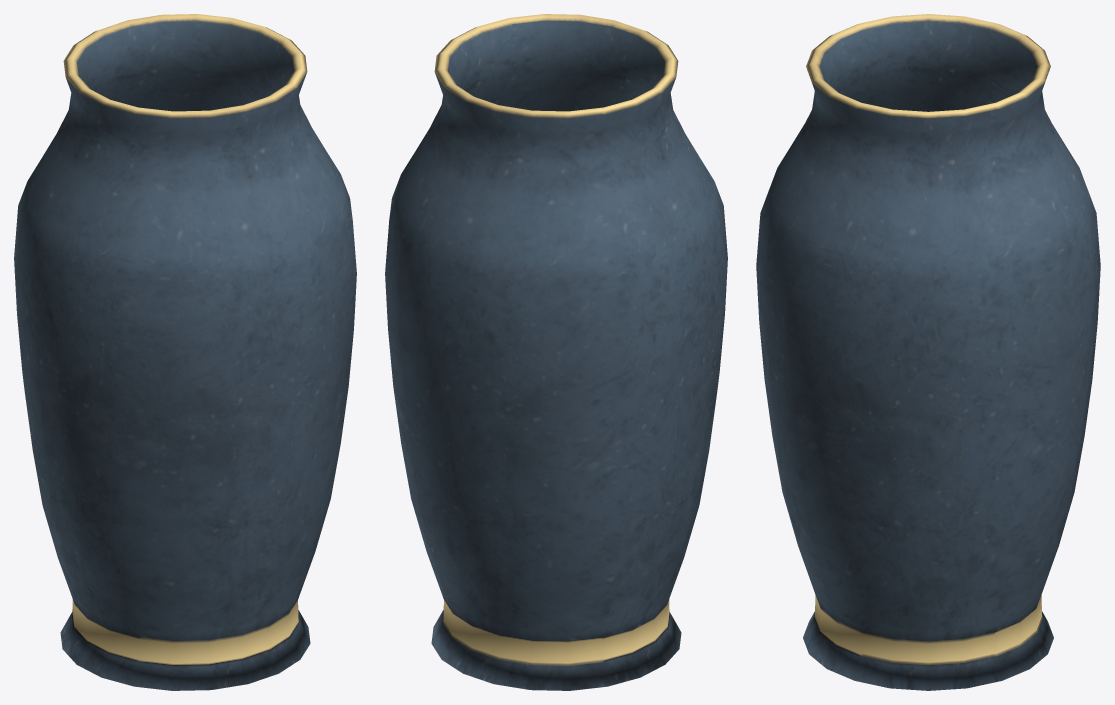
Rendered from Tubo2.fbx.
3 views of the same model, side by side, from view 1: azimuth 30°, elevation 25°; view 2: azimuth 150°, elevation 25°; view 3: azimuth 270°, elevation 25° (orthographic).
Visible parts, largest first — view 1: pSphere1; view 2: pSphere1; view 3: pSphere1.
Boxes of the visible parts, x1,y1,x2,y2 form: pSphere1: (14,14,356,690); pSphere1: (385,14,727,690); pSphere1: (756,14,1100,690).
Size of the model in its own units: 21.14 by 38.92 by 21.14.
